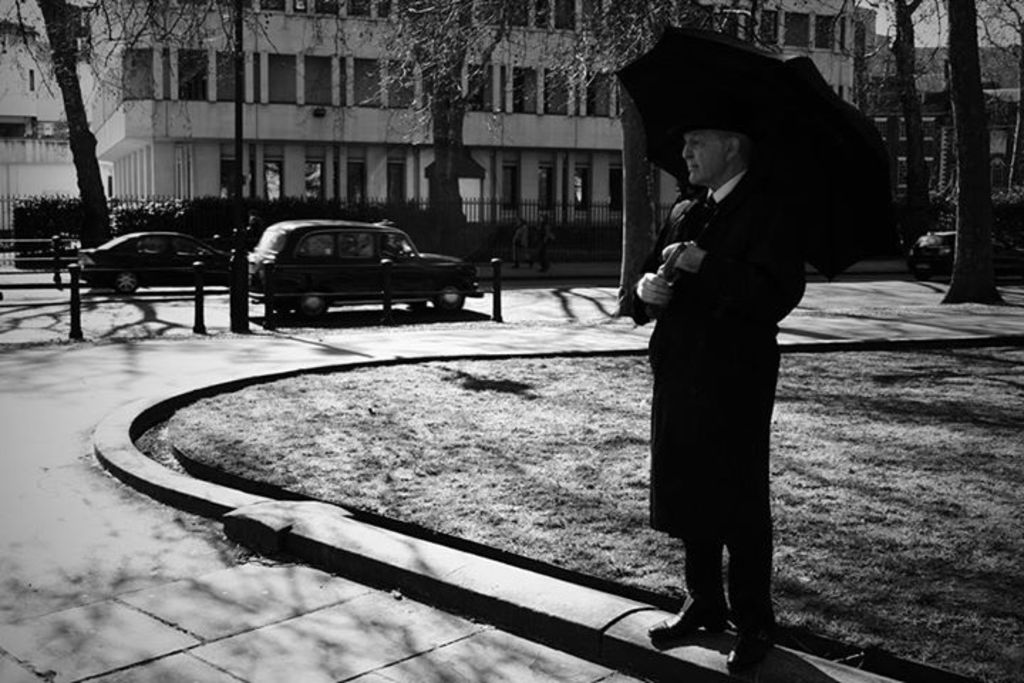Car: (248, 214, 472, 318), (71, 229, 234, 301), (908, 221, 955, 283)
